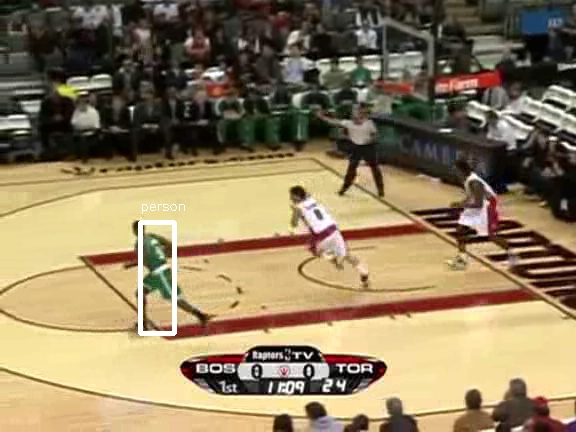person: (137, 229, 171, 310), (136, 229, 170, 310), (138, 229, 172, 310), (137, 228, 171, 309), (137, 230, 171, 311)
target_negative: (49, 43, 257, 410), (144, 164, 458, 388), (239, 40, 522, 201), (308, 74, 478, 116), (334, 58, 563, 73), (220, 378, 340, 391)
